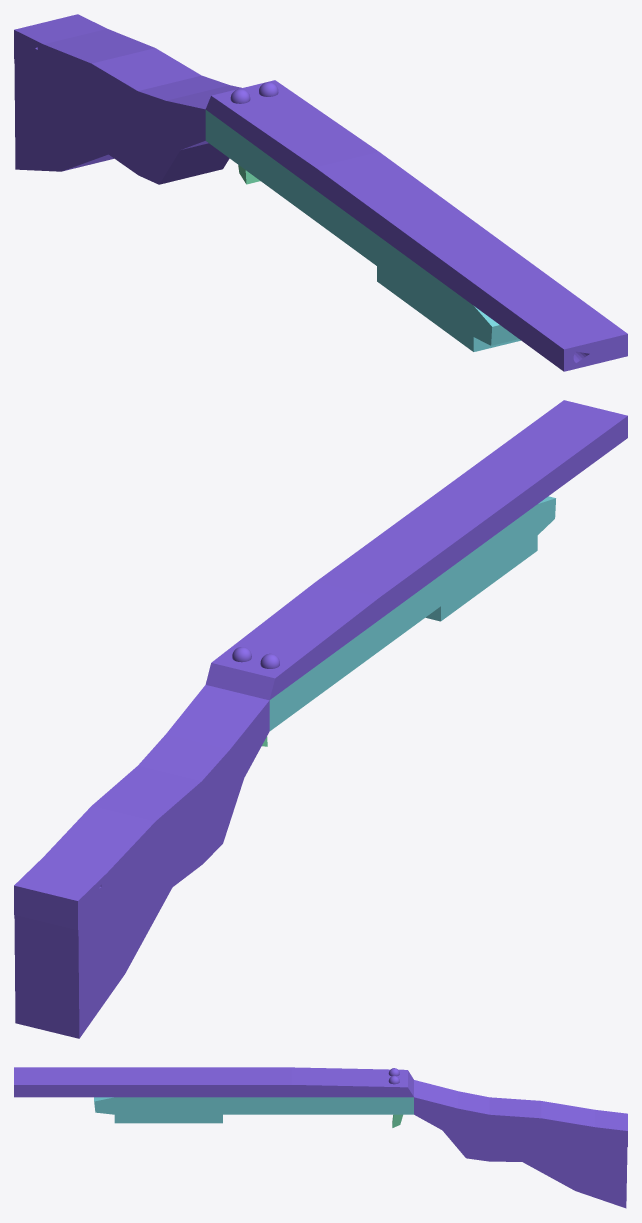
Rendered from gumball shot gun.fbx.
3 views of the same model, one above another, from view 1: azimuth 30°, elevation 25°; view 2: azimuth 150°, elevation 25°; view 3: azimuth 270°, elevation 25° (orthographic). The views are drawn at different scales.
Visible parts, largest first — view 1: ShotGunBase.001, ShotGunBase.002, ShotGunBase; view 2: ShotGunBase.002, ShotGunBase.001, ShotGunBase; view 3: ShotGunBase.002, ShotGunBase.001, ShotGunBase.
Part boxes in pixels (box(x1,y1,x2,y2)): ShotGunBase.001: box(205, 80, 627, 371); ShotGunBase.002: box(14, 14, 241, 184); ShotGunBase: box(205, 110, 520, 351); ShotGunBase.002: box(14, 685, 269, 1038); ShotGunBase.001: box(205, 400, 627, 700); ShotGunBase: box(269, 496, 555, 730); ShotGunBase.002: box(414, 1080, 627, 1208); ShotGunBase.001: box(14, 1067, 413, 1097); ShotGunBase: box(94, 1097, 413, 1123).
Bounding box in the file's own units: 30 × 102 × 447.
